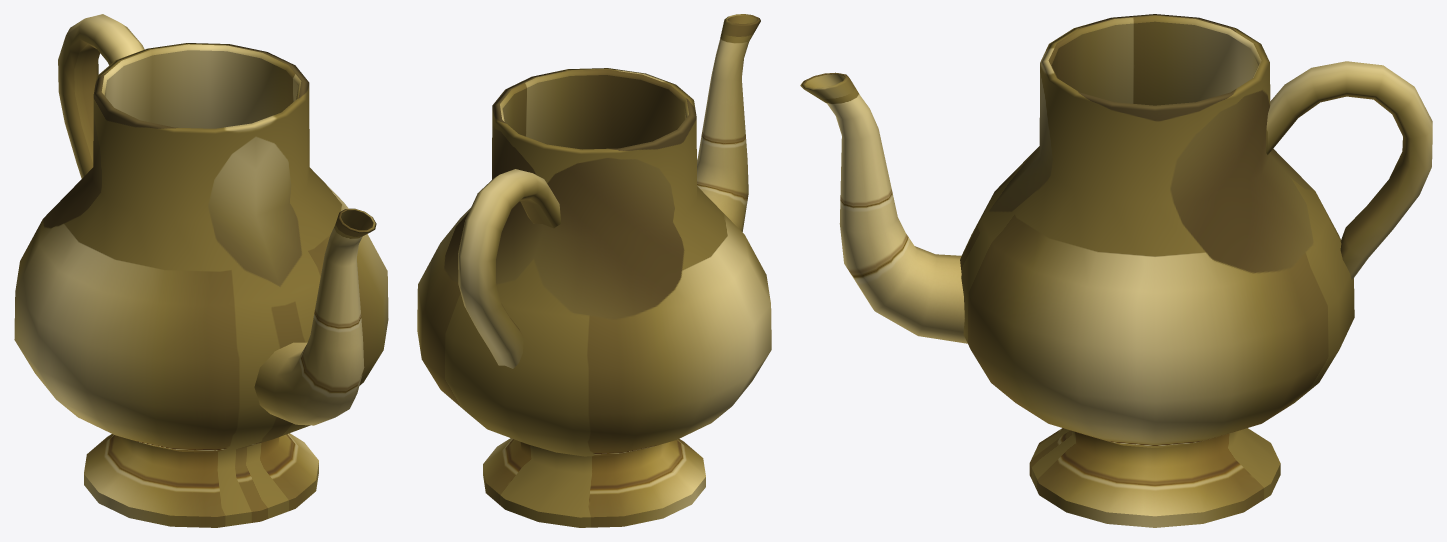
File: Turkish_Kettle_02.fbx
3 views of the same model, side by side, from view 1: azimuth 30°, elevation 25°; view 2: azimuth 150°, elevation 25°; view 3: azimuth 270°, elevation 25° (orthographic). The views are drawn at different scales.
Visible parts, largest first — view 1: Turkish_Kettle_02; view 2: Turkish_Kettle_02; view 3: Turkish_Kettle_02.
Part boxes in pixels (x1,y1,x2,y2): Turkish_Kettle_02: (14,14,388,527); Turkish_Kettle_02: (417,14,771,527); Turkish_Kettle_02: (800,14,1432,527).
Size of the model in its own units: 44.36 by 50.81 by 70.32.
